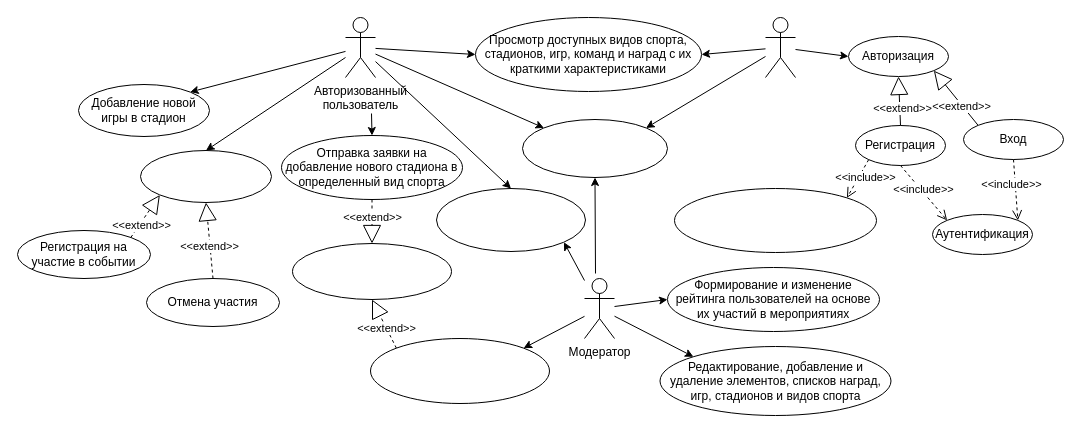
Image size: 1081x433. Some labels were removed from this diagram. The shapes that lost their labels are listed below. From the top down, each one's centre as x and y in pixels, then its label:
the point at 780,47: Неавторизованный пользователь
the point at 595,148: Взаимодействие с командой поддержки
the point at 206,176: Участие в спортивных событиях
the point at 511,220: Просмотр и изменение личных данных на странице профиля
the point at 775,220: Ознакомление с информацией вводного инструктажа, политикой пользования сервисом
the point at 372,271: Добавление нового стадиона в определенный вид спорта
the point at 460,371: Обработка заявки на добавление нового стадиона в определенный вид спорта
